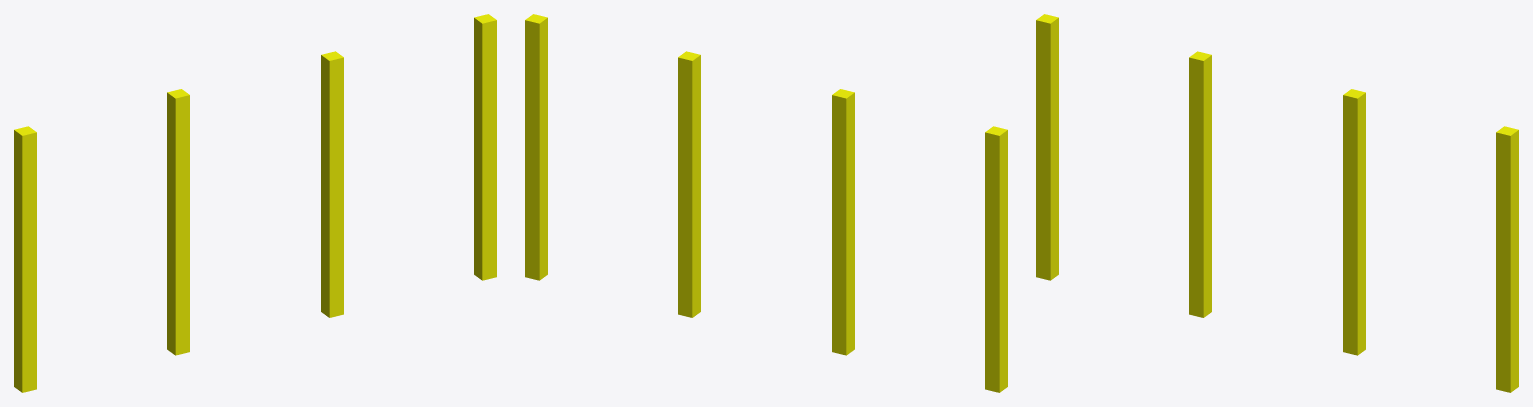
File: pole trap.fbx
3 views of the same model, side by side, from view 1: azimuth 30°, elevation 25°; view 2: azimuth 150°, elevation 25°; view 3: azimuth 330°, elevation 25° (orthographic).
Visible parts, largest first — view 1: pole, pole.001, pole.003, pole.002; view 2: pole, pole.001, pole.003, pole.002; view 3: pole, pole.001, pole.003, pole.002.
Boxes of the visible parts, x1,y1,x2,y2 form: pole: (14,126,36,392); pole.001: (474,14,496,280); pole.003: (167,89,189,355); pole.002: (321,51,343,317); pole: (985,126,1007,392); pole.001: (525,14,547,280); pole.003: (832,89,854,355); pole.002: (678,51,700,317); pole: (1036,14,1058,280); pole.001: (1496,126,1518,392); pole.003: (1189,51,1211,317); pole.002: (1343,89,1365,355).
Bounding box in the file's own units: 652 × 337 × 20.
